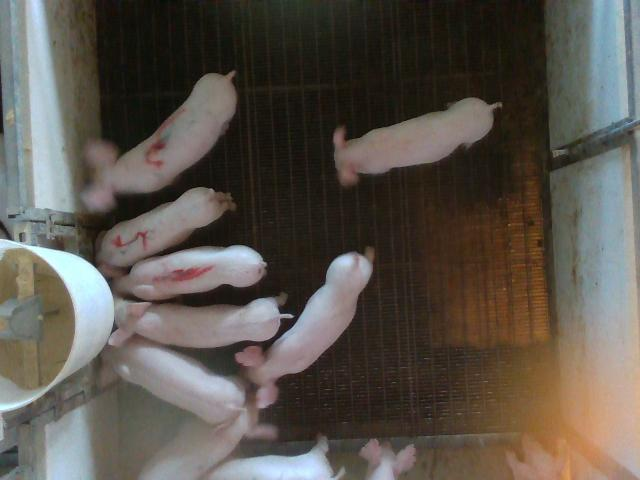pig-1: (112, 246, 266, 301)
pig-3: (81, 71, 236, 211)
pig-5: (96, 188, 234, 281)
